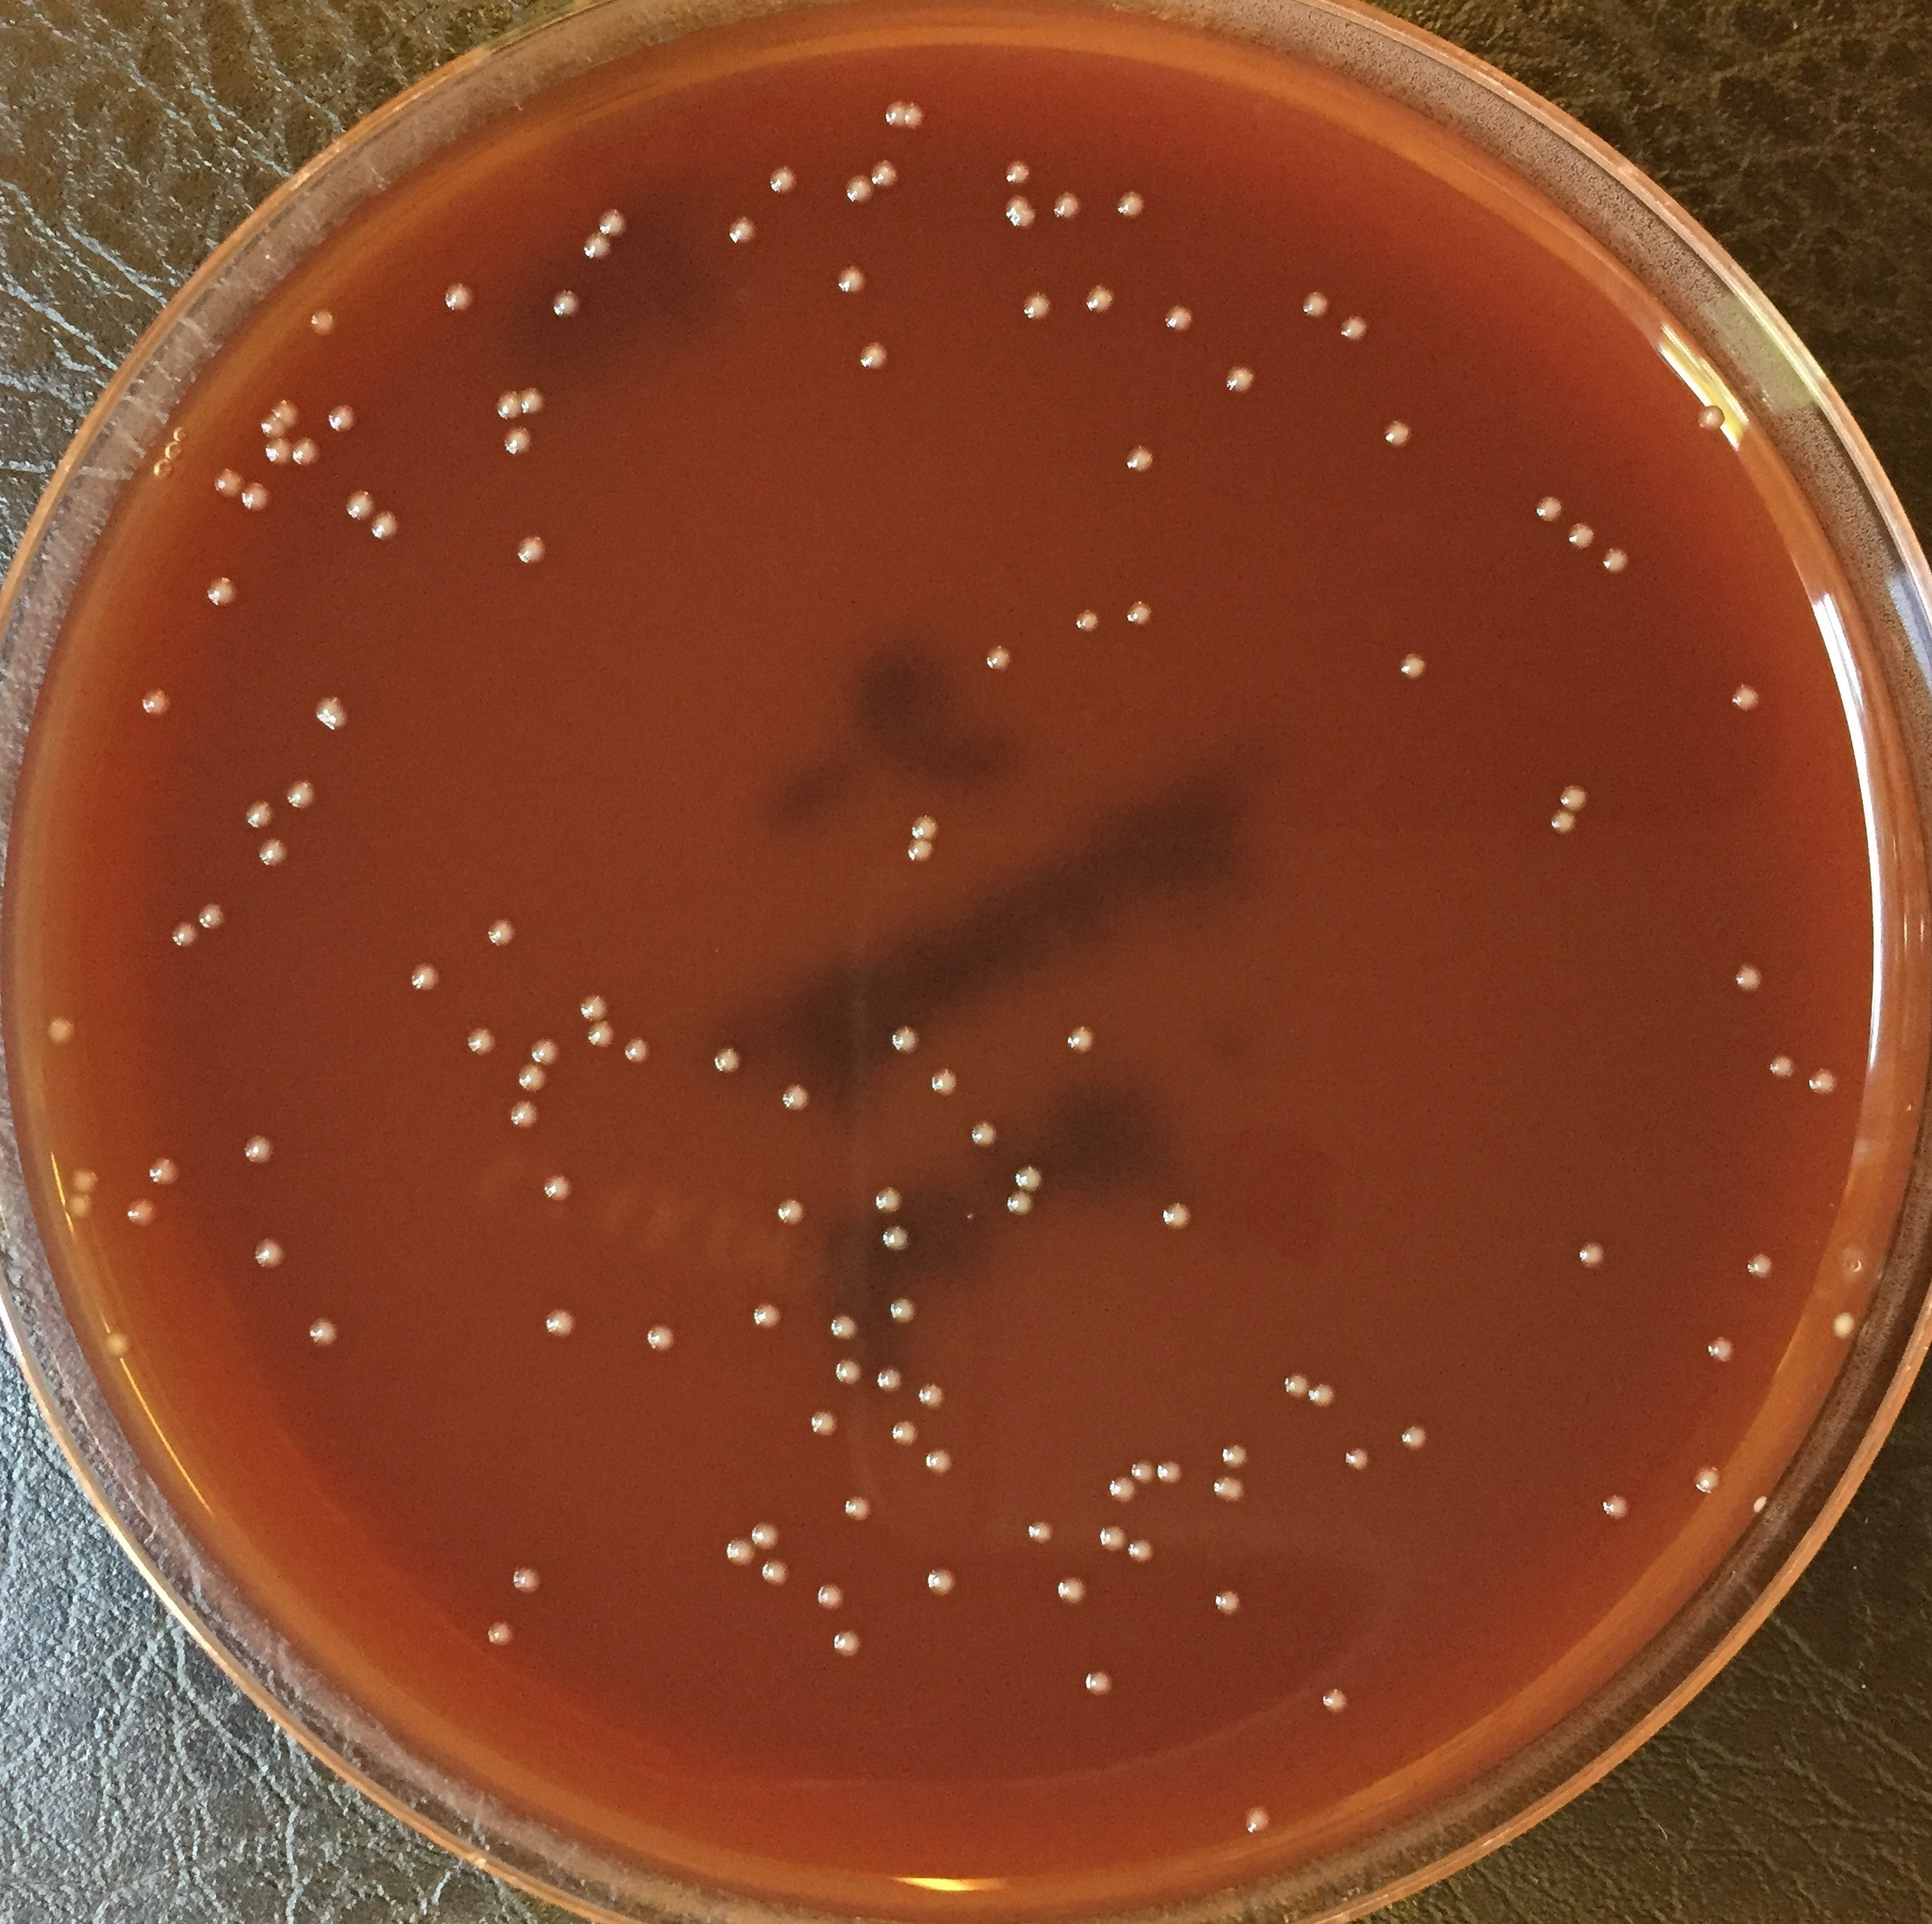sp06: (310, 692, 358, 736), (439, 278, 481, 319), (497, 423, 538, 465), (145, 1154, 185, 1195), (203, 573, 245, 611), (1726, 680, 1768, 717), (516, 379, 552, 421), (829, 1626, 867, 1663), (240, 1128, 279, 1165), (1061, 1022, 1100, 1059), (747, 1297, 788, 1332), (257, 835, 298, 870), (1299, 287, 1333, 329), (548, 285, 582, 328), (924, 1563, 961, 1600), (1003, 194, 1040, 231), (340, 486, 377, 523), (513, 530, 550, 567), (136, 684, 173, 721), (1690, 1462, 1726, 1501), (1218, 361, 1257, 396), (194, 900, 233, 936), (249, 1235, 287, 1270), (869, 1182, 910, 1216), (576, 229, 617, 263), (966, 1119, 1003, 1154), (1595, 1489, 1632, 1524), (855, 340, 892, 375), (99, 1325, 136, 1360), (1158, 1200, 1197, 1233), (1807, 1066, 1846, 1099), (508, 1563, 546, 1596), (1056, 1573, 1091, 1609), (539, 1166, 575, 1202), (756, 1556, 793, 1589), (1081, 1667, 1118, 1700), (1095, 1524, 1132, 1558), (1213, 1582, 1246, 1619), (1597, 541, 1634, 574), (287, 435, 324, 469), (464, 1025, 501, 1059), (286, 775, 319, 812), (240, 798, 273, 835), (44, 1013, 78, 1050), (67, 1166, 104, 1200), (1694, 400, 1726, 439), (545, 1302, 576, 1341), (515, 1059, 555, 1089), (772, 1196, 807, 1230), (806, 1408, 841, 1441), (723, 1535, 756, 1570), (1119, 440, 1155, 474), (1562, 518, 1597, 551), (1396, 650, 1431, 684), (867, 157, 901, 192), (834, 263, 869, 296), (1112, 187, 1146, 222), (326, 402, 361, 435), (367, 507, 402, 541), (878, 1221, 915, 1253), (504, 1099, 541, 1131), (123, 1198, 160, 1230), (1012, 1159, 1045, 1193), (922, 1445, 955, 1478), (763, 160, 797, 194), (1051, 189, 1084, 222), (1162, 301, 1195, 335), (1338, 312, 1371, 345), (210, 469, 243, 502), (982, 640, 1015, 673), (829, 1355, 864, 1387), (1828, 1307, 1860, 1343), (1557, 781, 1592, 812), (268, 396, 303, 428), (405, 960, 441, 992), (585, 1018, 617, 1054), (839, 1496, 876, 1526), (305, 1316, 342, 1346), (1123, 1535, 1156, 1566), (1216, 1436, 1248, 1469), (1576, 1239, 1608, 1272), (1548, 807, 1581, 839), (1731, 960, 1763, 994), (1532, 493, 1565, 525), (1021, 289, 1052, 322), (307, 307, 340, 338), (240, 481, 273, 513), (620, 1032, 652, 1066), (164, 920, 196, 953), (1241, 1799, 1273, 1832), (827, 1313, 862, 1343), (1024, 1515, 1054, 1550), (1211, 1475, 1246, 1505), (1082, 280, 1112, 315), (494, 386, 524, 421), (643, 1323, 680, 1351), (1705, 1334, 1736, 1365), (598, 206, 629, 238), (904, 835, 936, 867), (529, 1036, 561, 1068), (712, 1043, 744, 1075), (927, 1062, 959, 1094), (485, 1616, 516, 1647), (1153, 1457, 1186, 1487), (1282, 1369, 1315, 1399), (1396, 1424, 1430, 1454), (1320, 1686, 1354, 1716), (1123, 597, 1156, 627), (1072, 606, 1105, 636), (485, 918, 518, 948), (1377, 419, 1412, 448), (746, 1522, 783, 1549), (915, 1381, 947, 1411), (890, 1417, 920, 1448), (1107, 1473, 1139, 1503), (1125, 1455, 1155, 1487), (1304, 1380, 1336, 1410), (728, 213, 758, 245), (264, 433, 296, 463), (908, 812, 940, 842), (779, 1078, 811, 1108), (1003, 1189, 1037, 1217), (1766, 1054, 1800, 1082), (841, 174, 874, 203), (576, 990, 605, 1024), (252, 414, 289, 439), (901, 100, 931, 130), (1003, 157, 1033, 187), (888, 1297, 920, 1325), (1743, 1253, 1775, 1281), (63, 1189, 95, 1217), (874, 1365, 904, 1394), (881, 100, 910, 130), (814, 1584, 846, 1610), (1343, 1445, 1371, 1473), (888, 1025, 913, 1052), (1747, 1491, 1772, 1513), (962, 1207, 980, 1223)
